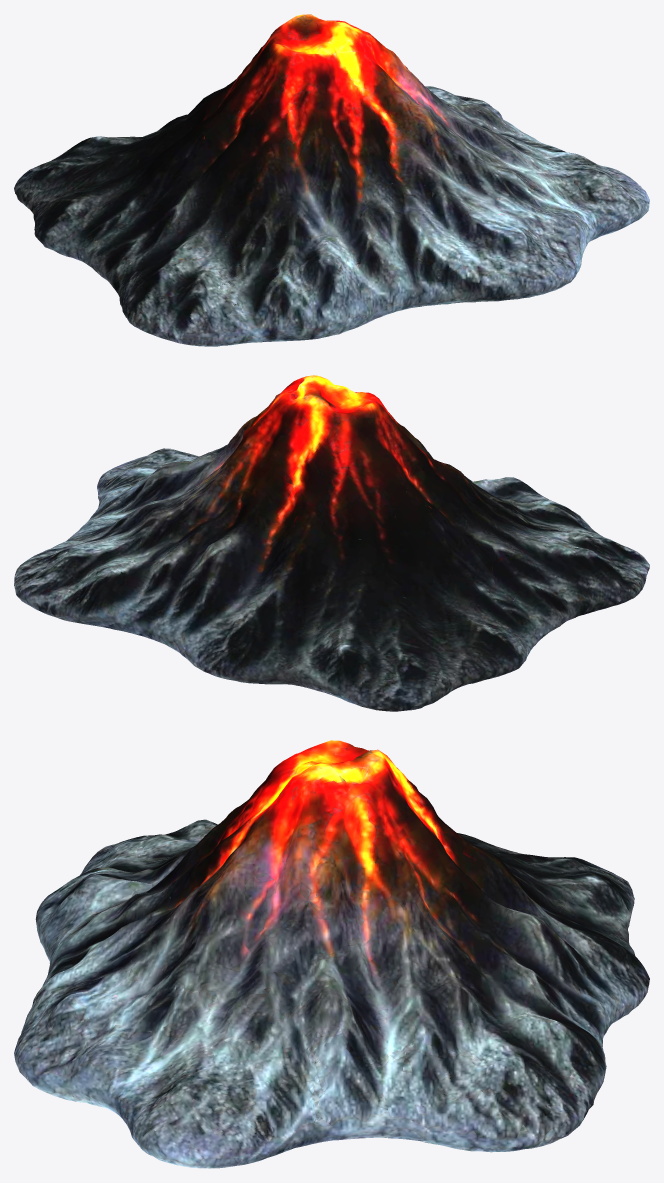
Rendered from volcano.v1.glb.
The picture shows the model from 3 angles, top to bottom: view 1: azimuth 30°, elevation 25°; view 2: azimuth 150°, elevation 25°; view 3: azimuth 270°, elevation 25°; orthographic projection. The views are drawn at different scales.
Visible parts, largest first — view 1: mesh_obj; view 2: mesh_obj; view 3: mesh_obj.
Boxes of the visible parts, x1,y1,x2,y2 form: mesh_obj: (14,14,649,346); mesh_obj: (14,375,649,711); mesh_obj: (14,740,649,1168).
Bounding box in the file's own units: 0.7602 × 0.2921 × 0.6392.
1 material, 1 textured.
